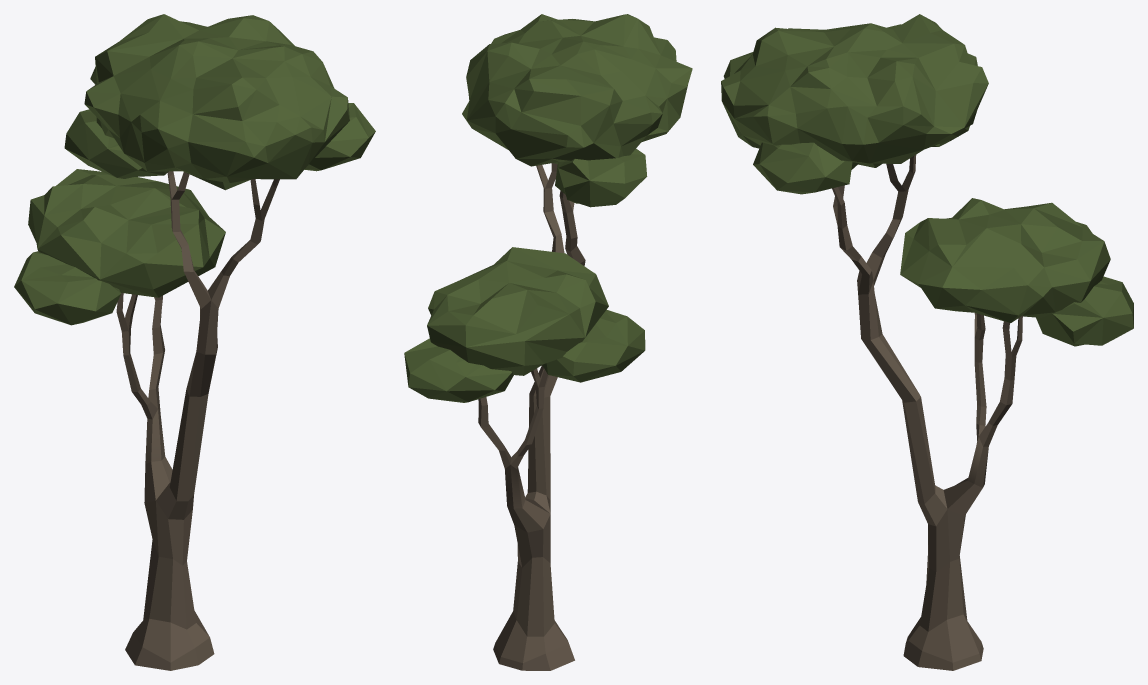
The model's file is tree_004.fbx.
3 renders of one model, left to right at view 1: azimuth 30°, elevation 25°; view 2: azimuth 150°, elevation 25°; view 3: azimuth 270°, elevation 25°, orthographic. The views are drawn at different scales.
Visible parts, largest first — view 1: tree_004; view 2: tree_004; view 3: tree_004.
Part boxes in pixels (left/top/right/bottom): tree_004: left=14, top=14, right=375, bottom=670; tree_004: left=404, top=14, right=692, bottom=670; tree_004: left=721, top=14, right=1133, bottom=670.
Bounding box in the file's own units: 0.4437 × 1.08 × 0.6526.
1 material, 1 textured.
